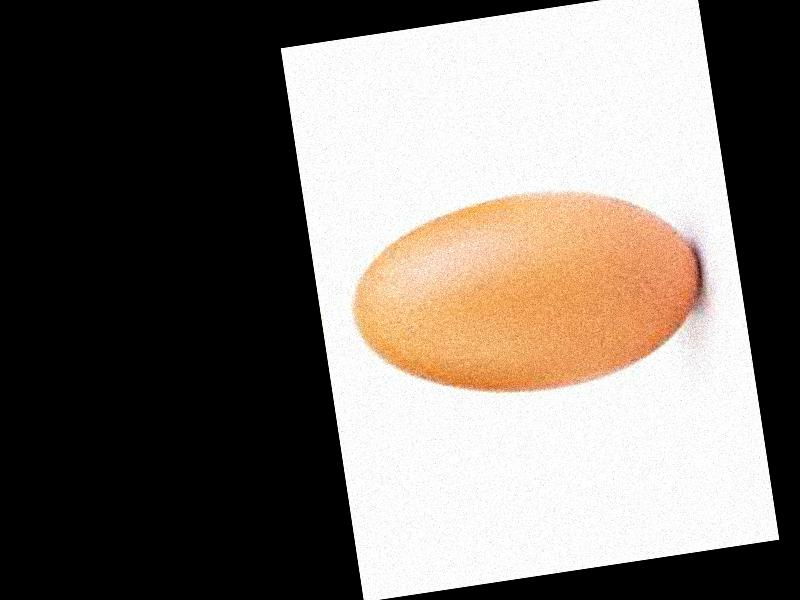Eggs: (340, 173, 712, 414)
